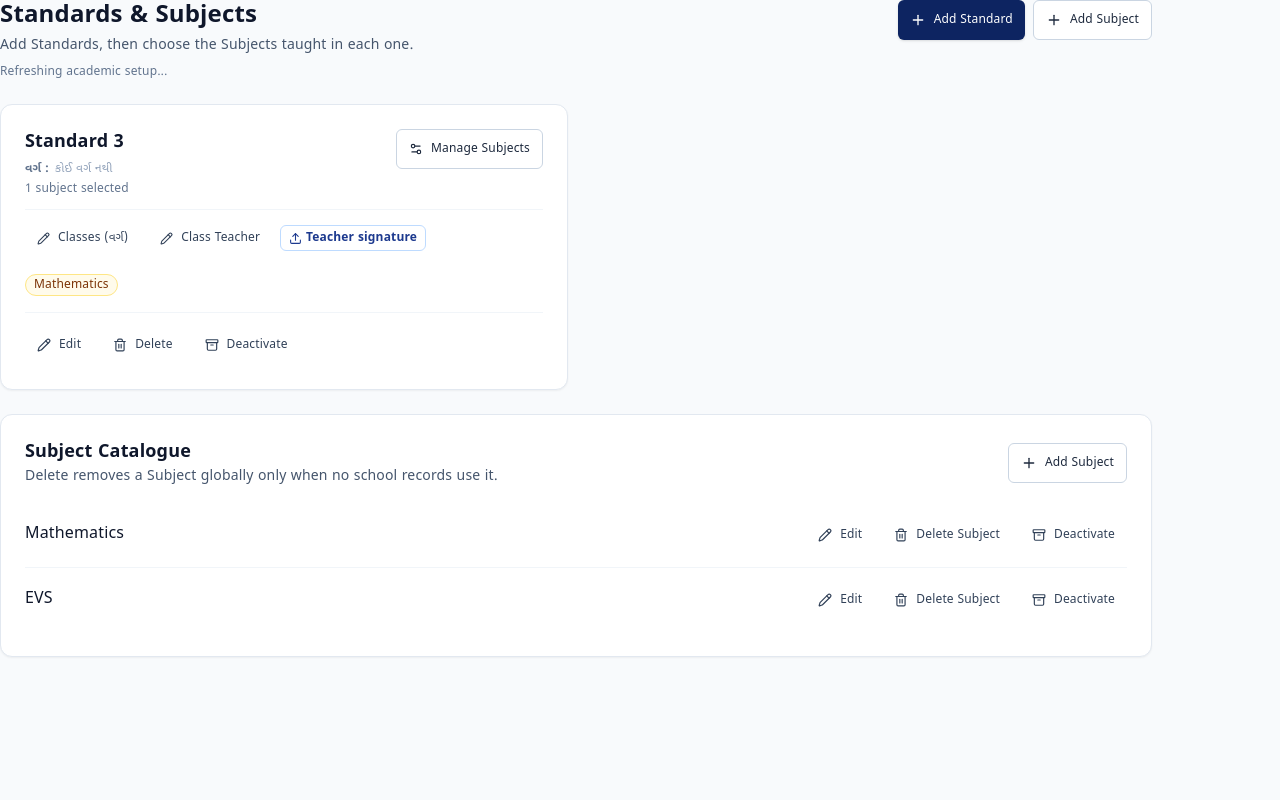
Test: AdminAcademicSetupPage › shows standards with their chosen subjects in one place
Expected: the heading "Standards & Subjects" is shown, 0,0 -> 257,32
Expected: the heading "Standard 3" is shown, 25,129 -> 129,157
Click the button "Manage Subjects": coordinates (470, 149) 396,129 -> 543,169
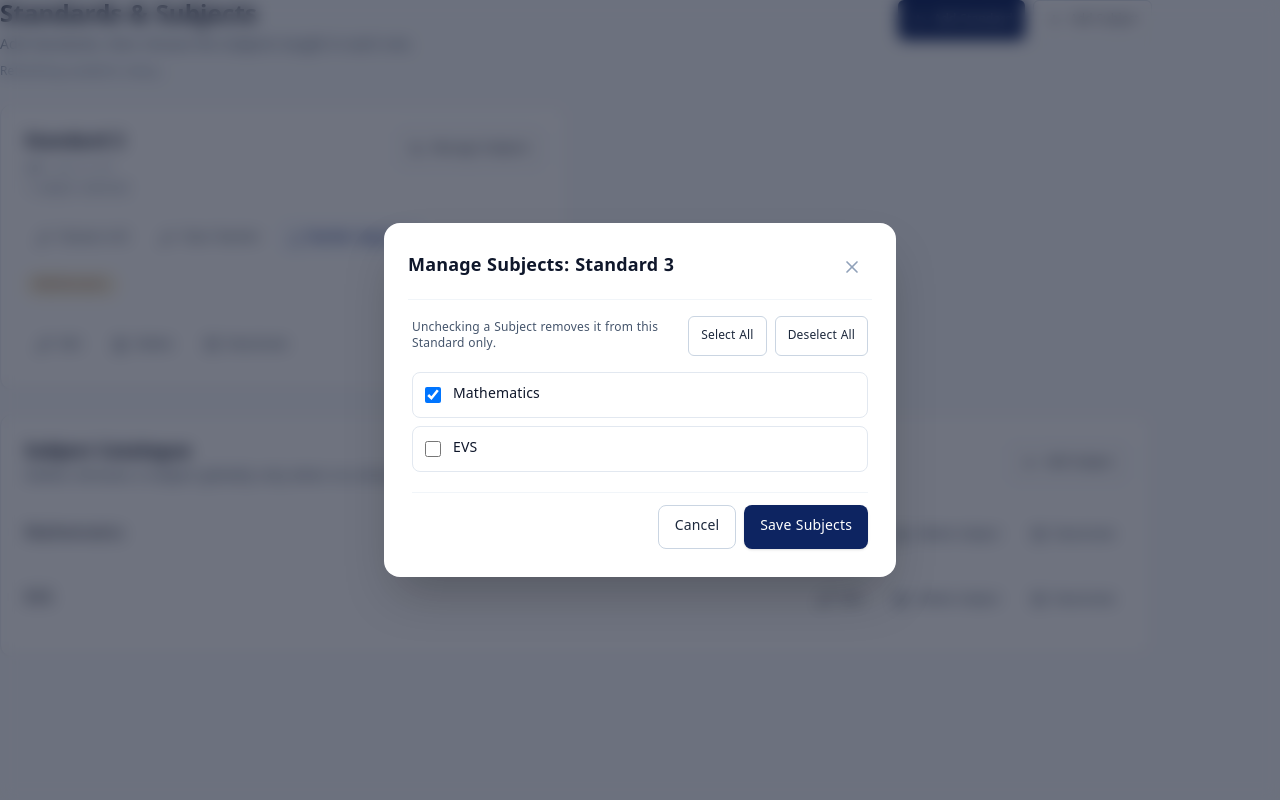
Now the checkbox labelled "EVS" is not checked, box 425,441 -> 441,457
